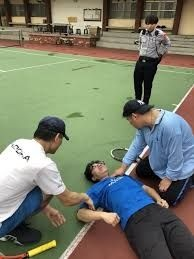falling: (77, 154, 194, 258)
